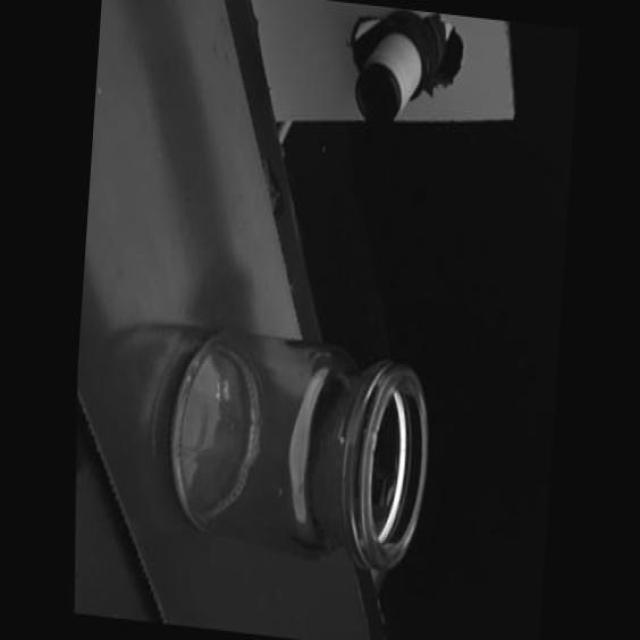defect: (357, 415, 383, 462), (334, 426, 350, 454)
glass: (152, 300, 446, 599)
